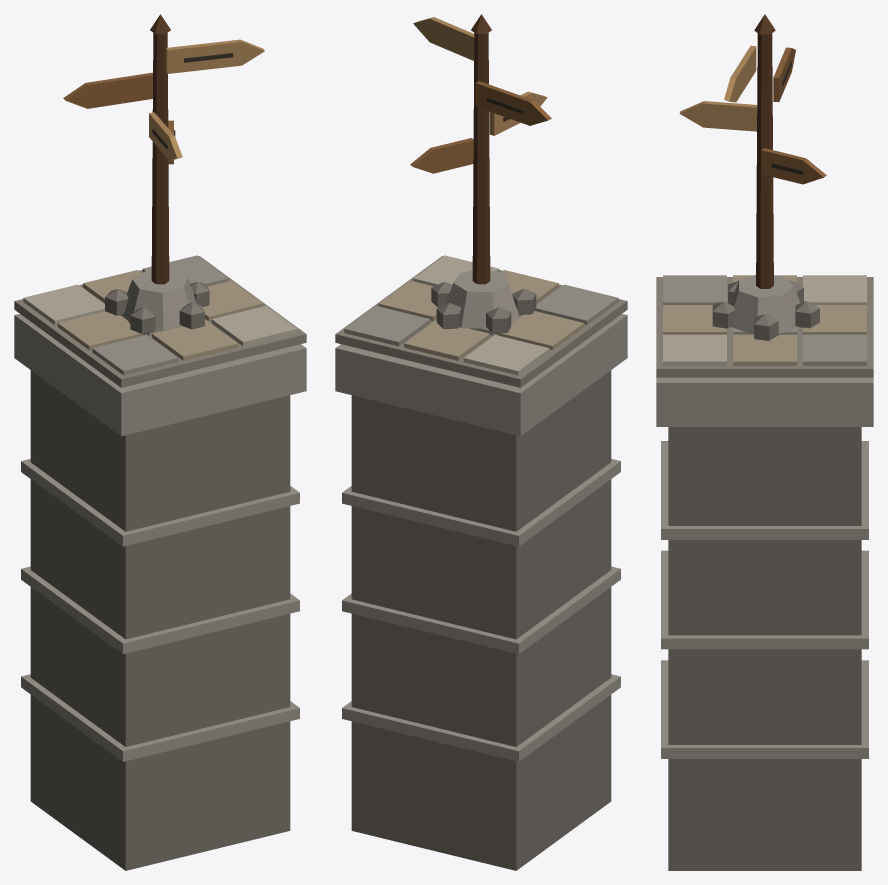
Rendered from decor_signpost.glb.
3 views of the same model, side by side, from view 1: azimuth 30°, elevation 25°; view 2: azimuth 150°, elevation 25°; view 3: azimuth 270°, elevation 25° (orthographic).
Parts seen in each view (by area): view 1: decor_signpost; view 2: decor_signpost; view 3: decor_signpost.
Part boxes in pixels (x1,y1,x2,y2): decor_signpost: (14,14,306,870); decor_signpost: (335,14,627,870); decor_signpost: (656,14,873,870).
Size of the model in its own units: 1.8 by 7.45 by 1.8.
